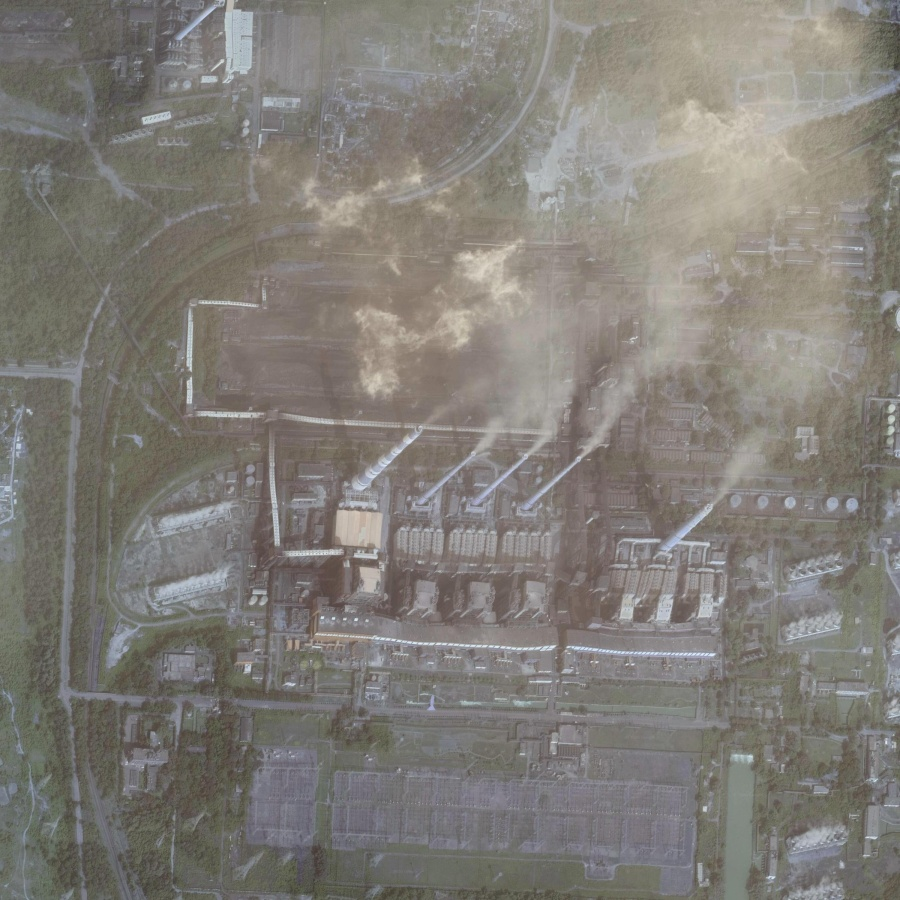PowerPlant: (191, 192, 752, 668)
